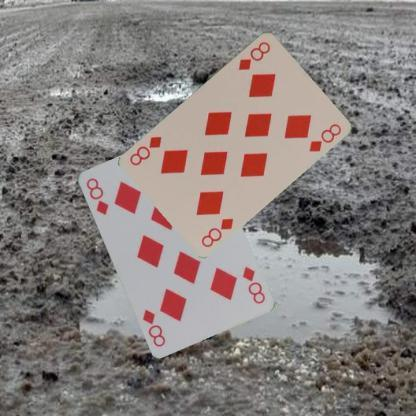8d: (198, 214, 235, 248), (236, 38, 272, 72), (239, 263, 266, 306), (83, 175, 110, 217)
